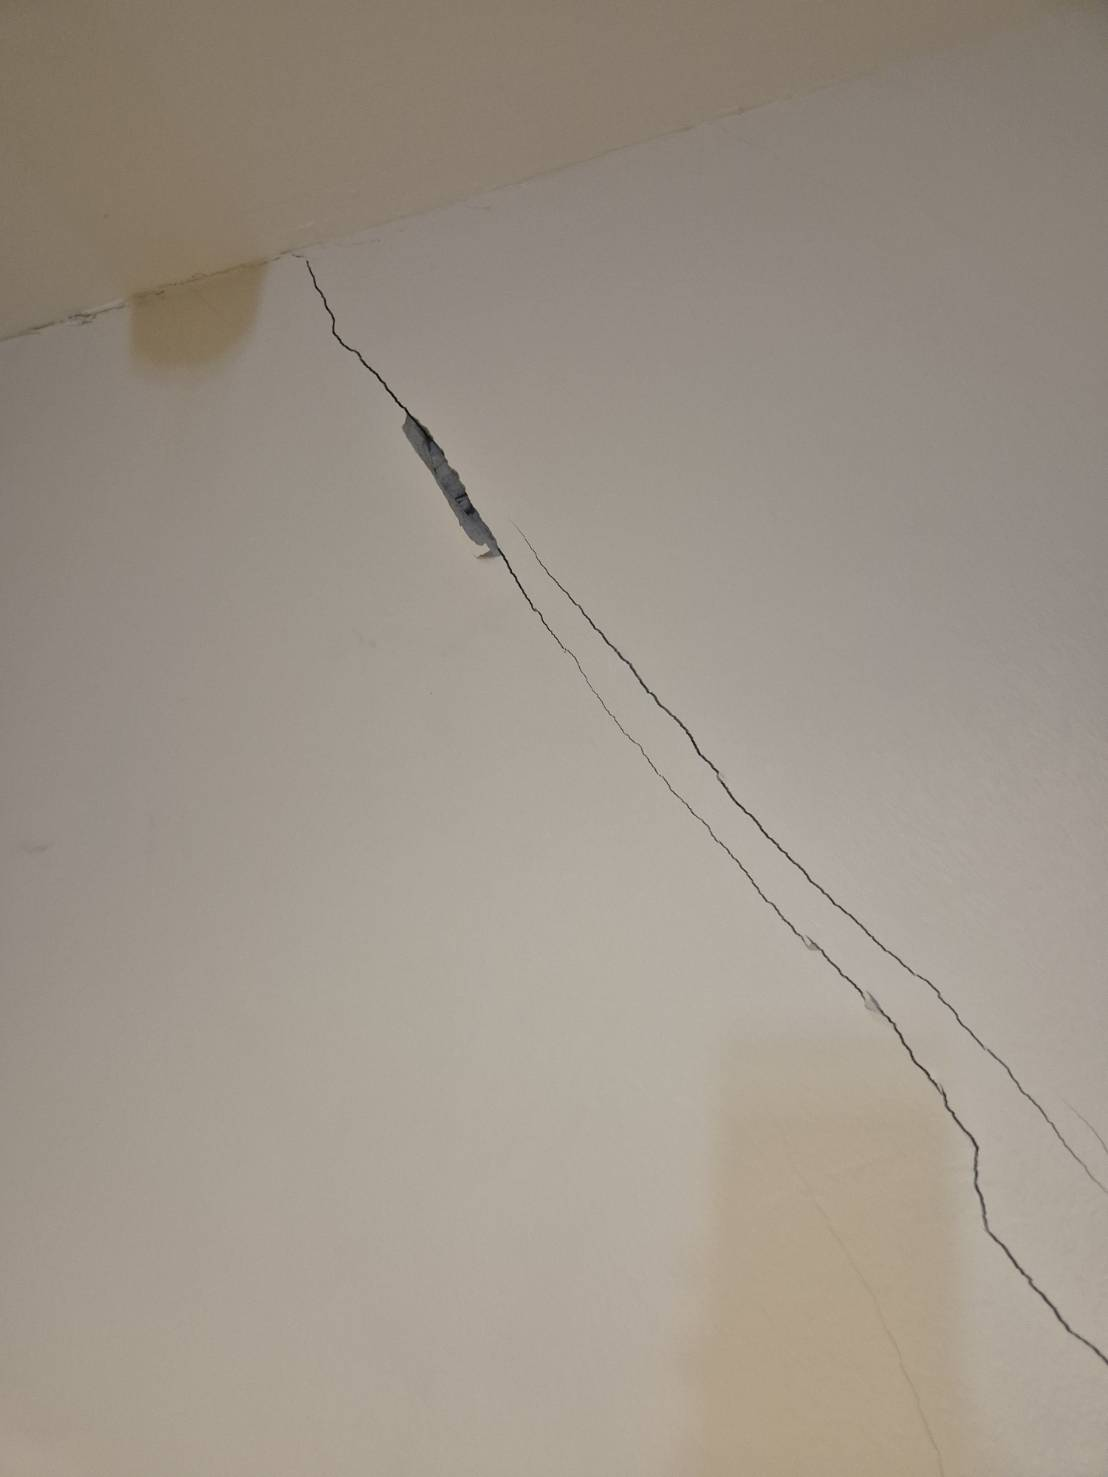Low: (246, 243, 1108, 1412)
